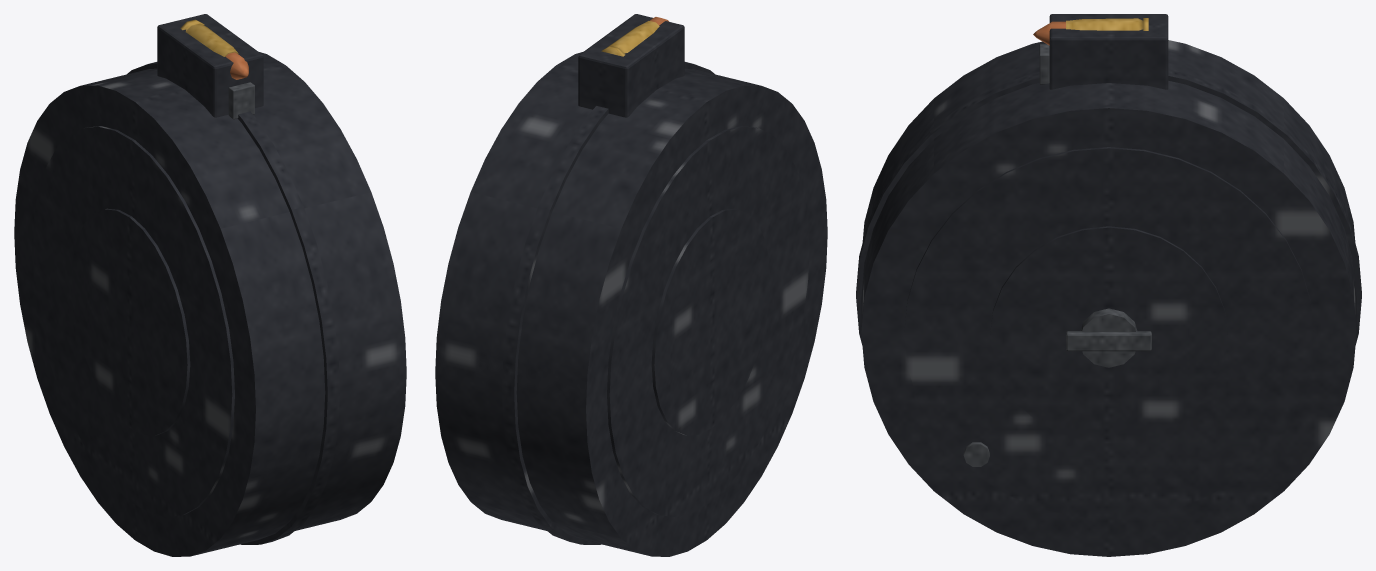
Rendered from mag_ppsh.glb.
The picture shows the model from 3 angles, left to right: view 1: azimuth 30°, elevation 25°; view 2: azimuth 150°, elevation 25°; view 3: azimuth 270°, elevation 25°; orthographic projection. The views are drawn at different scales.
Visible parts, largest first — view 1: mag_ppsh; view 2: mag_ppsh; view 3: mag_ppsh.
Part boxes in pixels (x1,y1,x2,y2): mag_ppsh: (14,14,406,556); mag_ppsh: (435,14,827,556); mag_ppsh: (856,14,1361,556).
Bounding box in the file's own units: 0.0635 × 0.1684 × 0.1532.
Materials: 4 (4 with a texture image).
